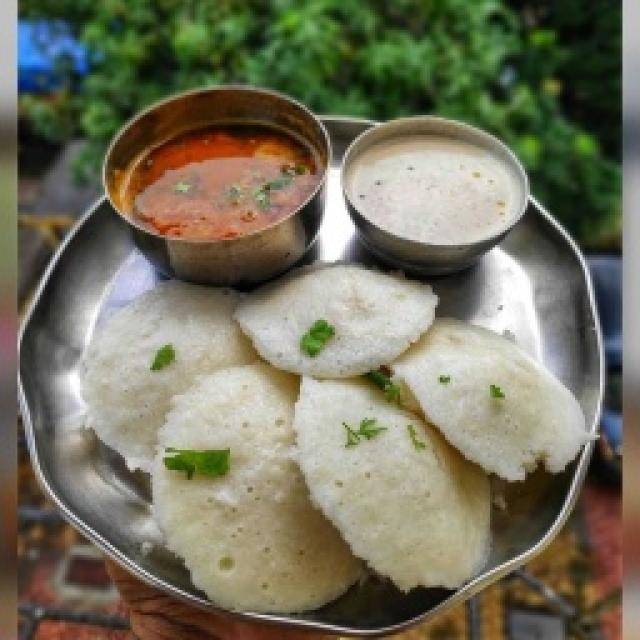idli: (153, 363, 362, 612), (295, 378, 489, 589), (83, 280, 257, 469), (393, 318, 589, 479), (235, 263, 437, 377)
